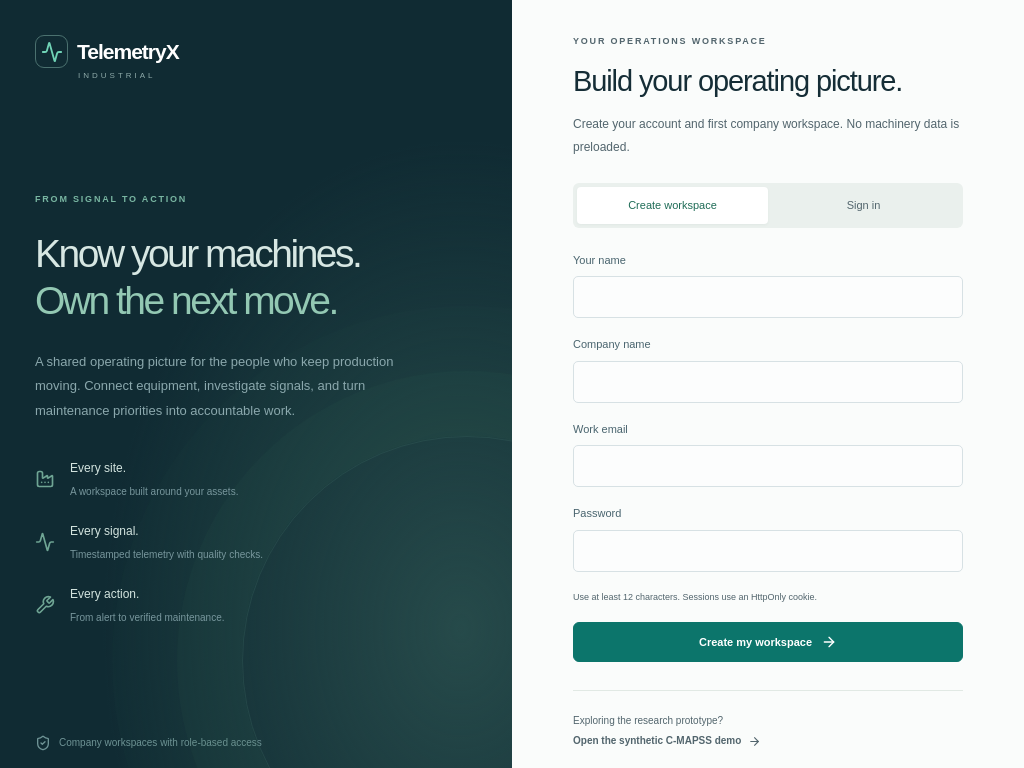
Test: authentication form recovery › recovers the sign-in button after a rejected login
Click the button "Sign in". click: (864, 206)
box: [768,187,959,224]
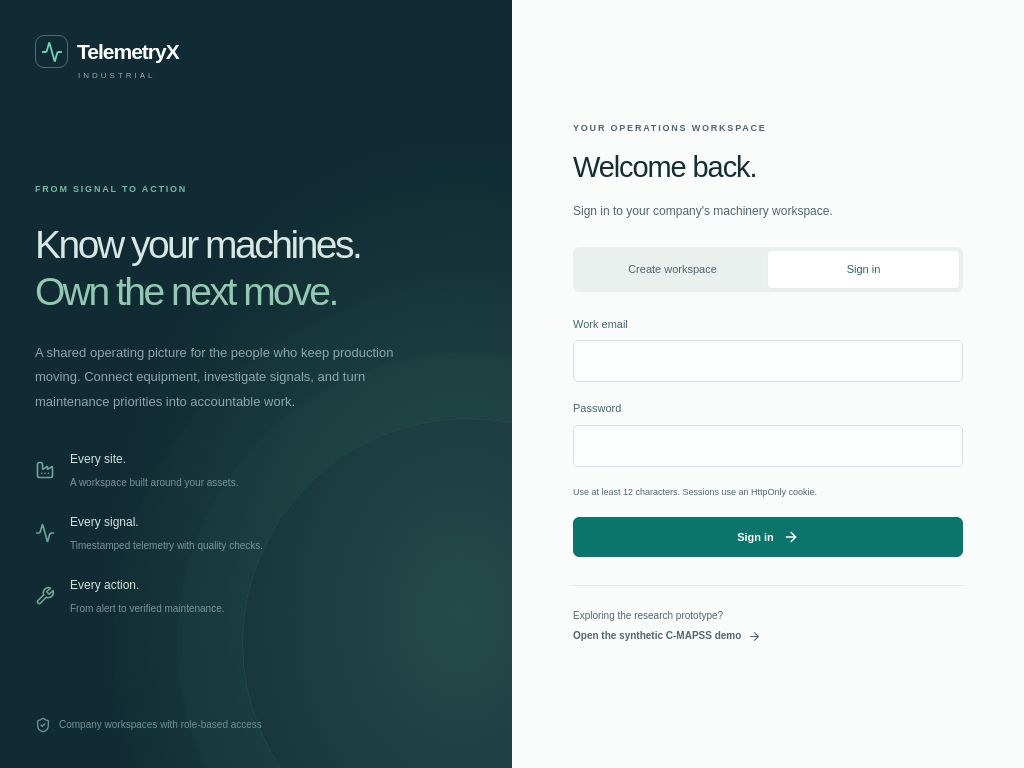
Type "owner@example.com" into the field labelled "Work email". click: (768, 361)
box: [573,340,963,382]
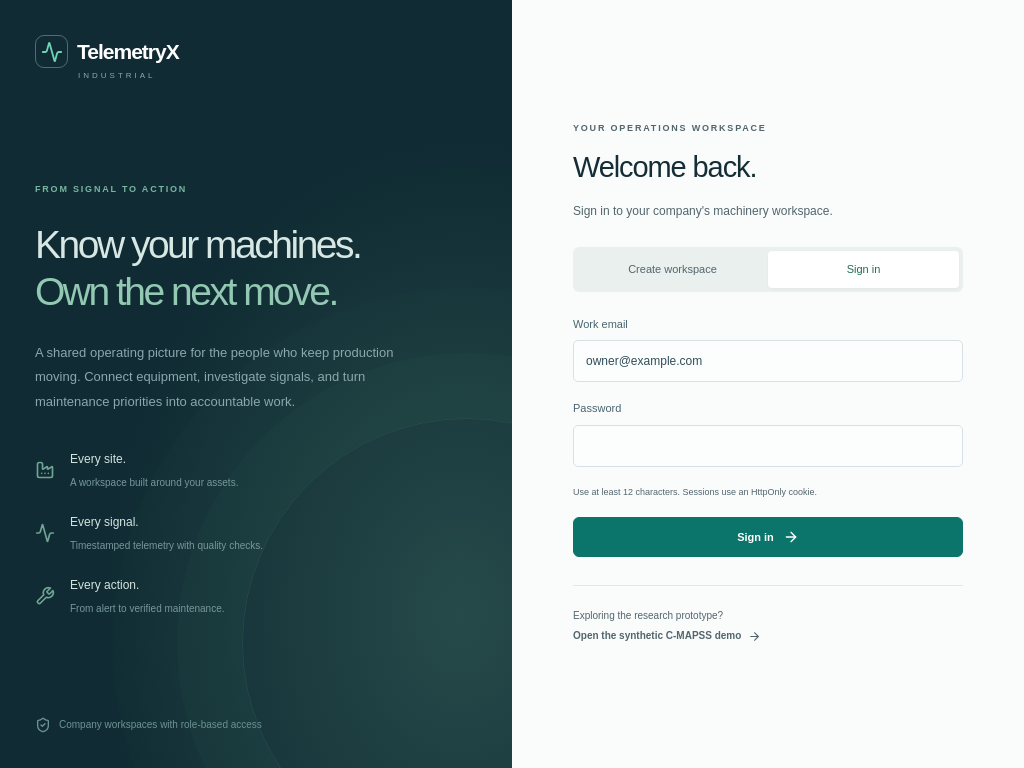
Type "long-password-123" into the password field labelled "Password". click: (768, 446)
box: [573,425,963,467]
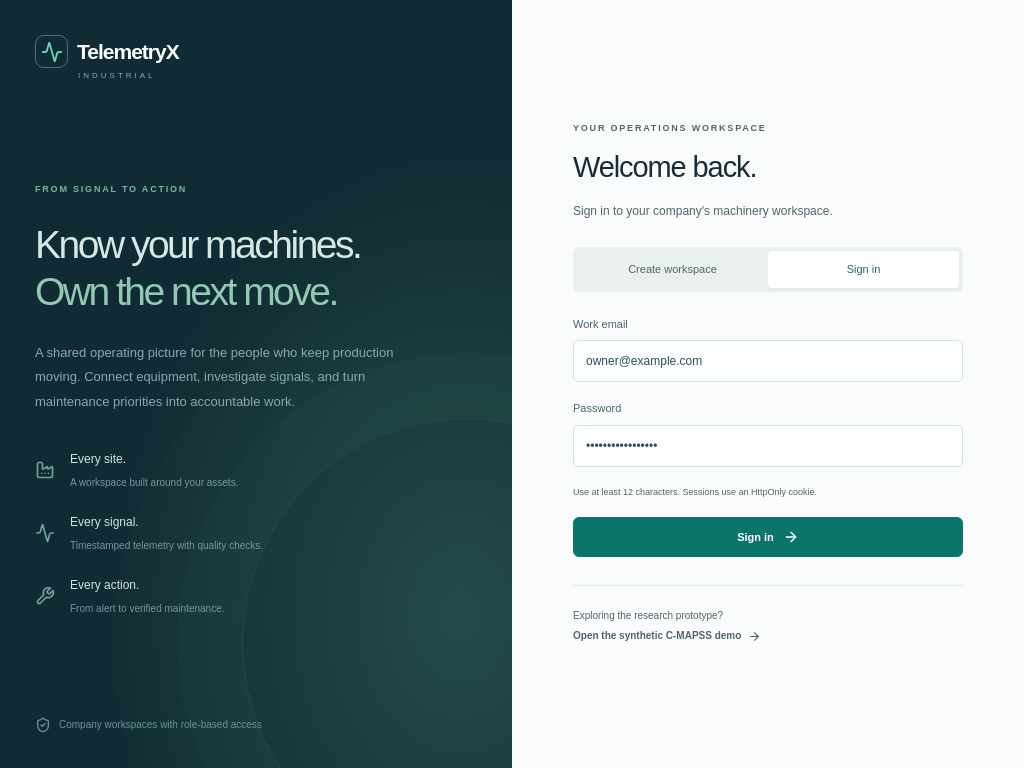
Submit the form named "Sign in", box [573,316,963,557]
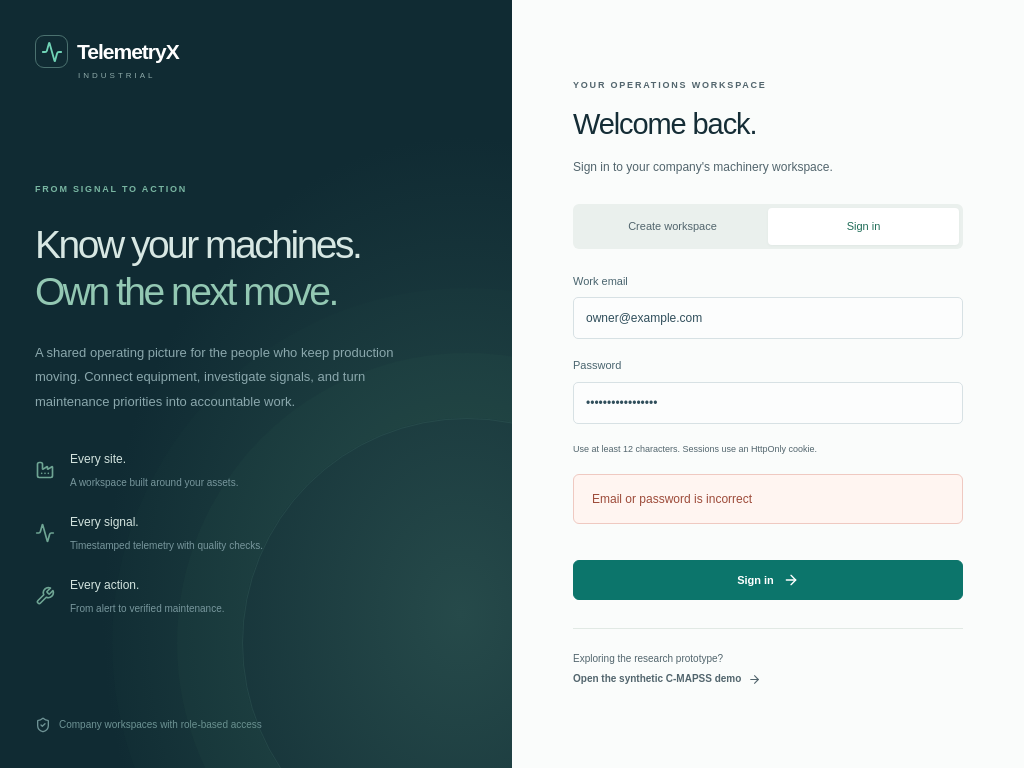
Expected: the button "Sign in" below "Email or password is incorrect" is enabled, [573,560,963,600]
Expected: the message reads "Email or password is incorrect", [592,492,752,506]
